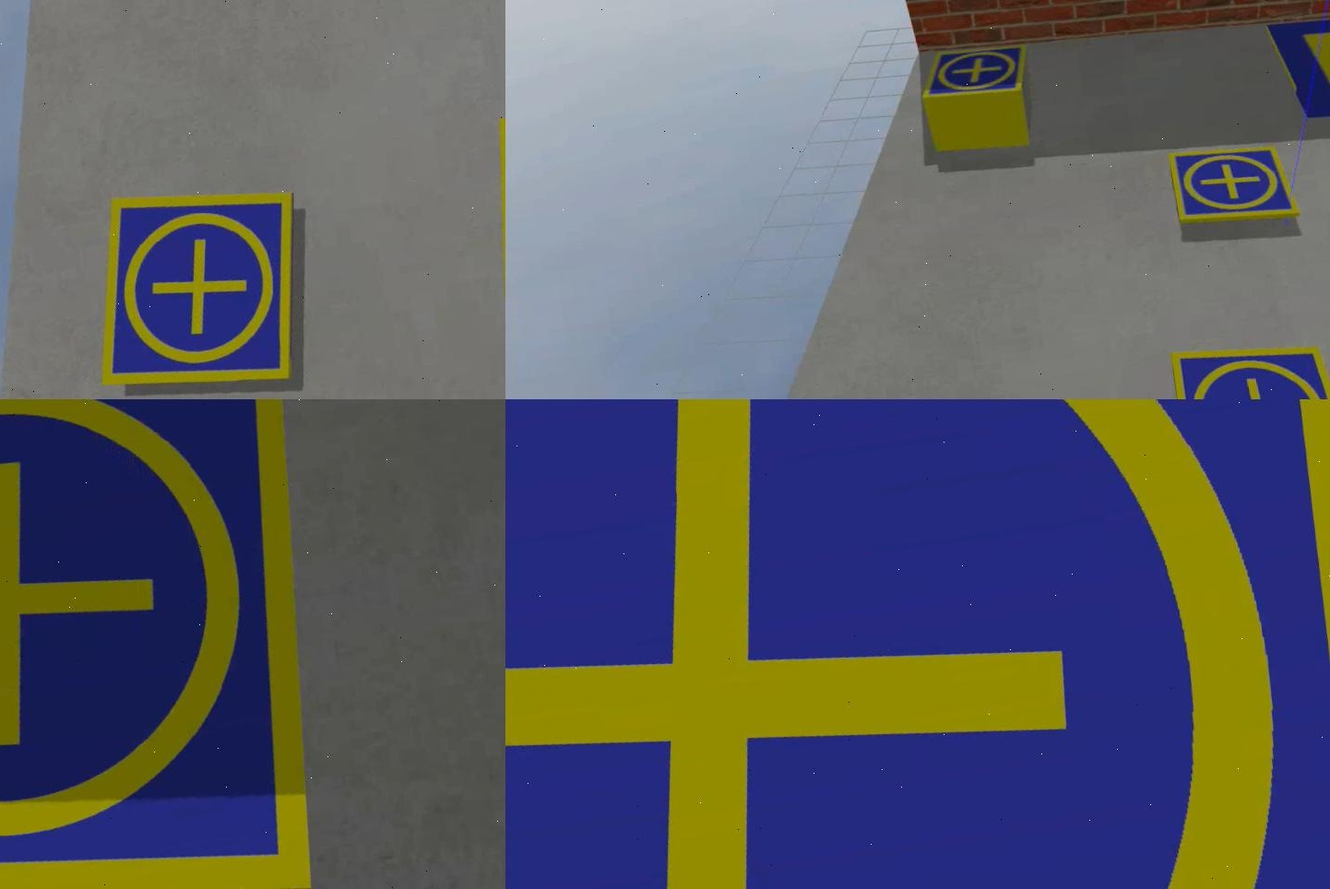large_base: (1264, 1, 1328, 136)
small_base: (505, 400, 1328, 889), (0, 400, 358, 889), (72, 173, 318, 400), (1167, 137, 1301, 234), (1164, 328, 1328, 400), (915, 41, 1029, 108)
